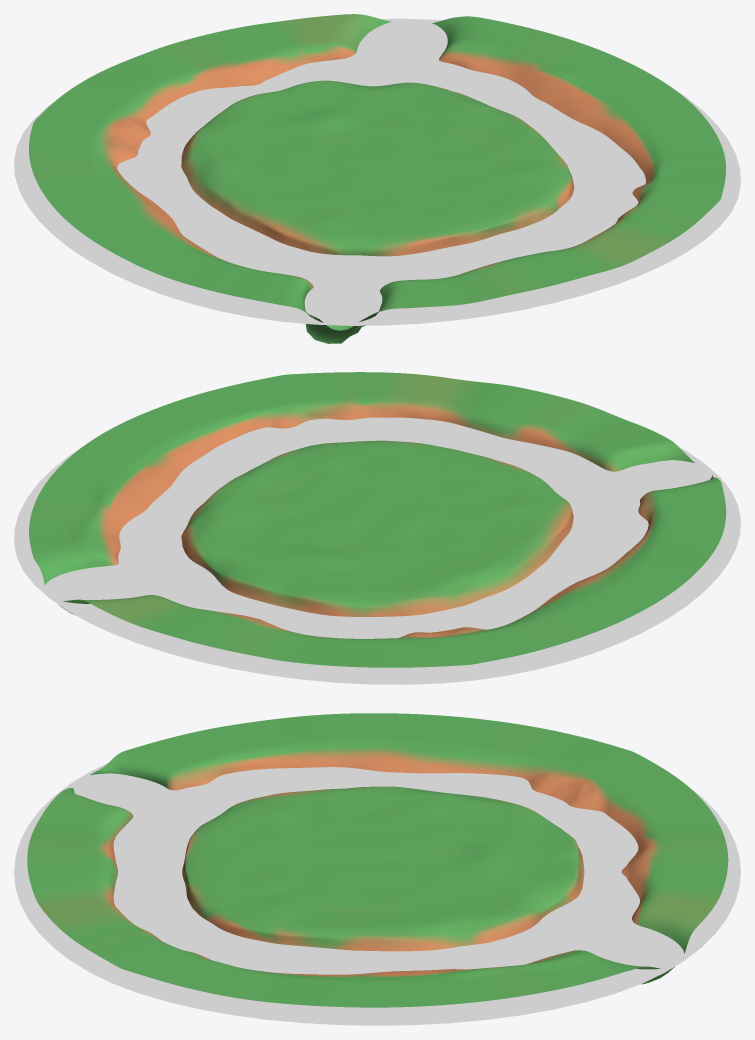
Rendered from World.fbx.
3 views of the same model, one above another, from view 1: azimuth 30°, elevation 25°; view 2: azimuth 150°, elevation 25°; view 3: azimuth 270°, elevation 25° (orthographic).
Parts seen in each view (by area): view 1: Plane.004, Plane.006; view 2: Plane.004, Plane.006; view 3: Plane.004, Plane.006.
Part boxes in pixels (x1,y1,x2,y2): Plane.004: (29,14,725,343); Plane.006: (14,18,740,325); Plane.004: (29,372,726,667); Plane.006: (14,417,740,684); Plane.004: (27,713,728,1007); Plane.006: (14,763,740,1025).
Size of the model in its own units: 28049 by 2587 by 28049.
